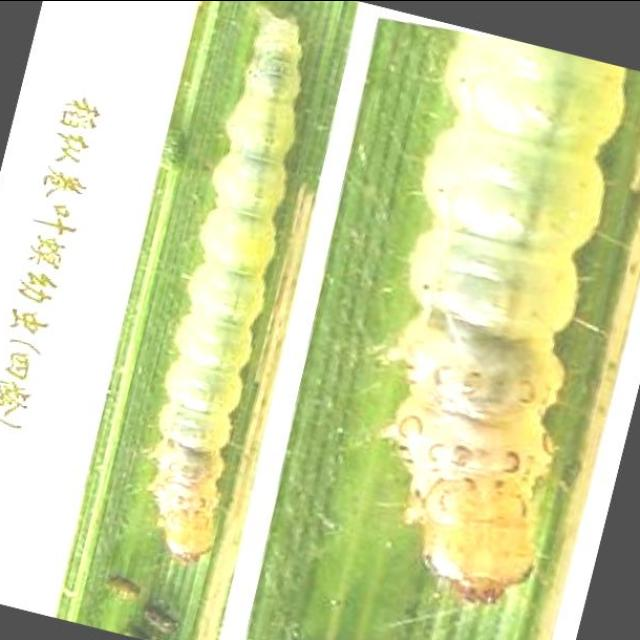leaf folder: (381, 33, 624, 603), (154, 8, 301, 556)
